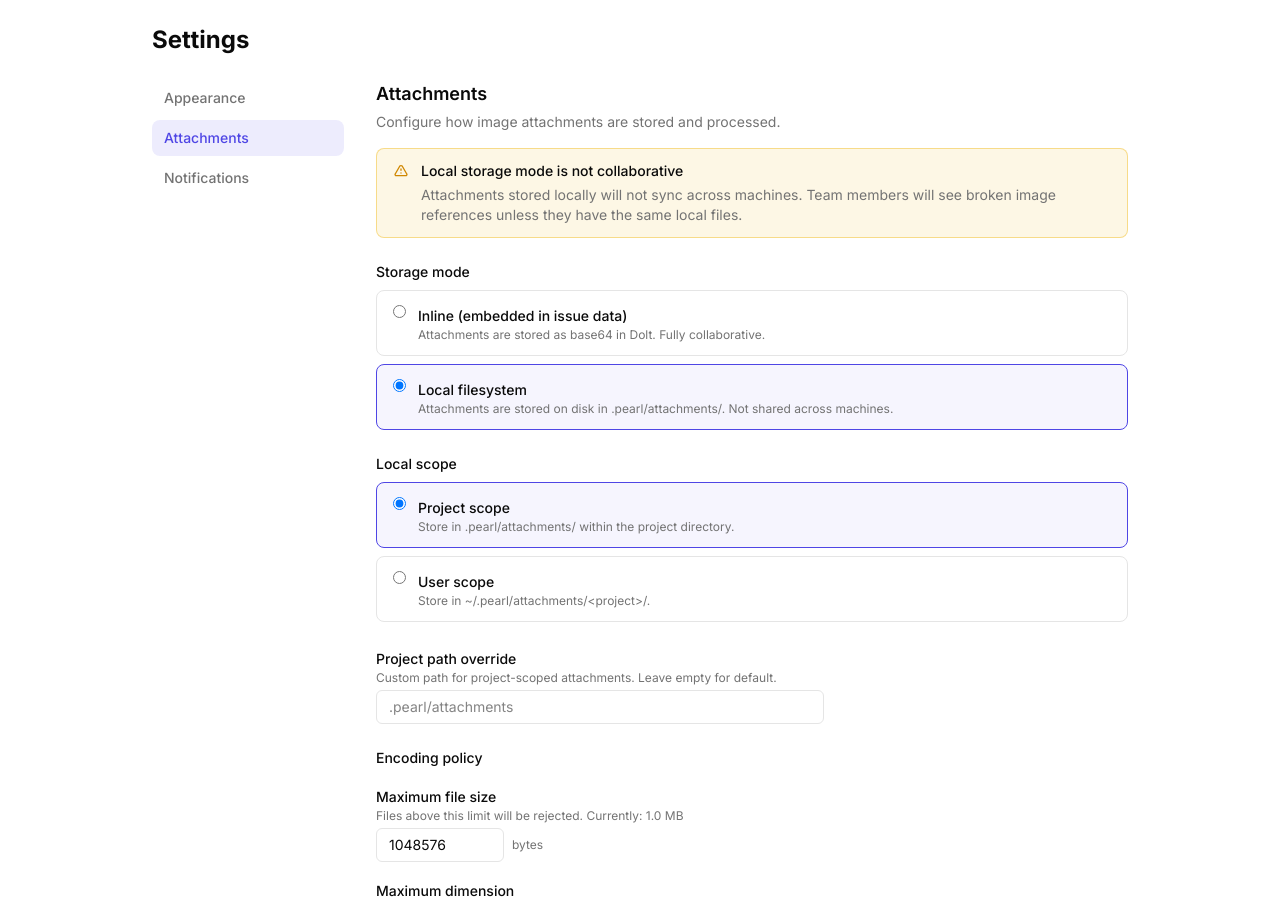
SettingsView › Attachments tab › hides local-only controls when mode is inline
Click the radio button labelled "Inline": {"x": 400, "y": 312} [393, 305, 406, 318]
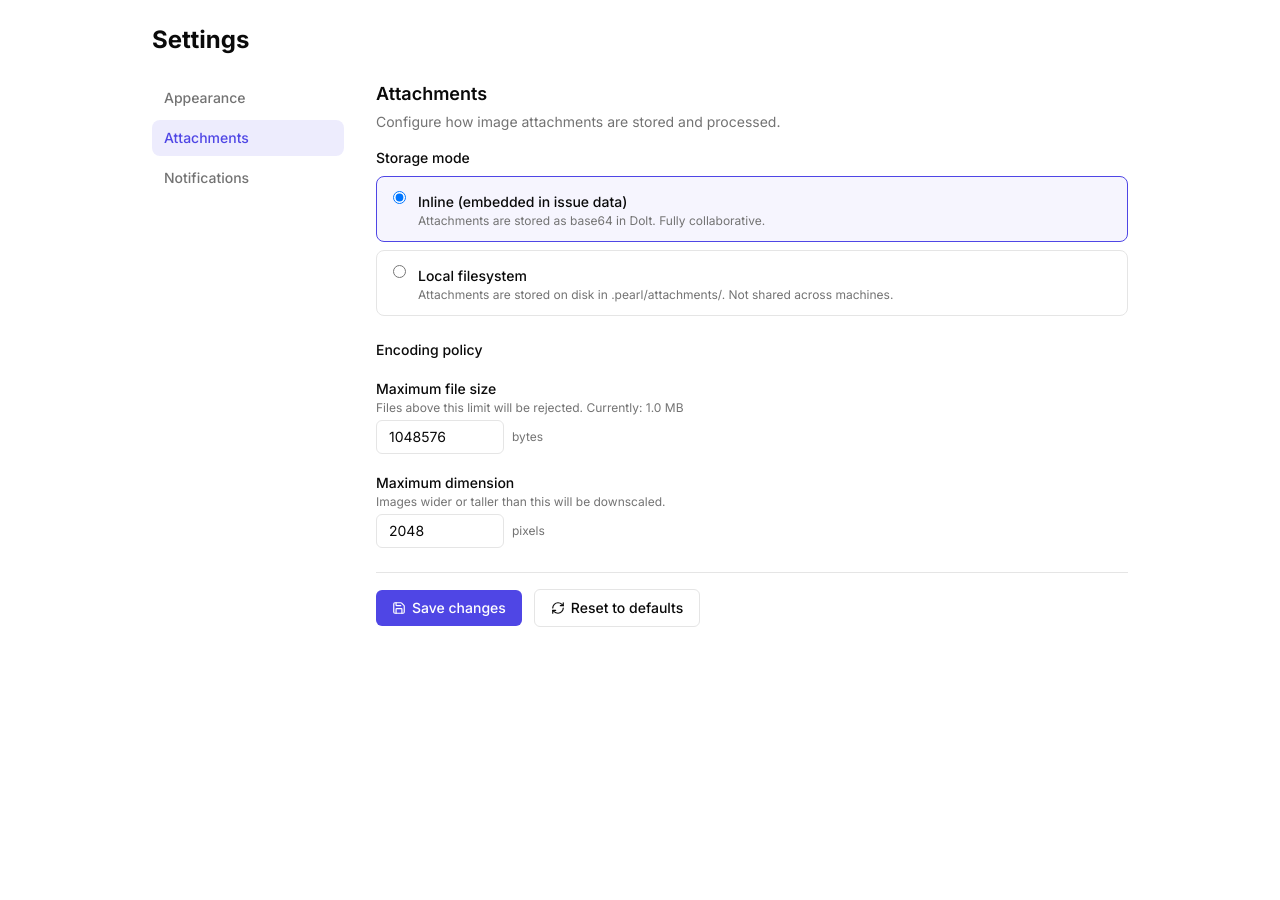
Now the text "Project scope" is gone
Now the text "User scope" is gone
